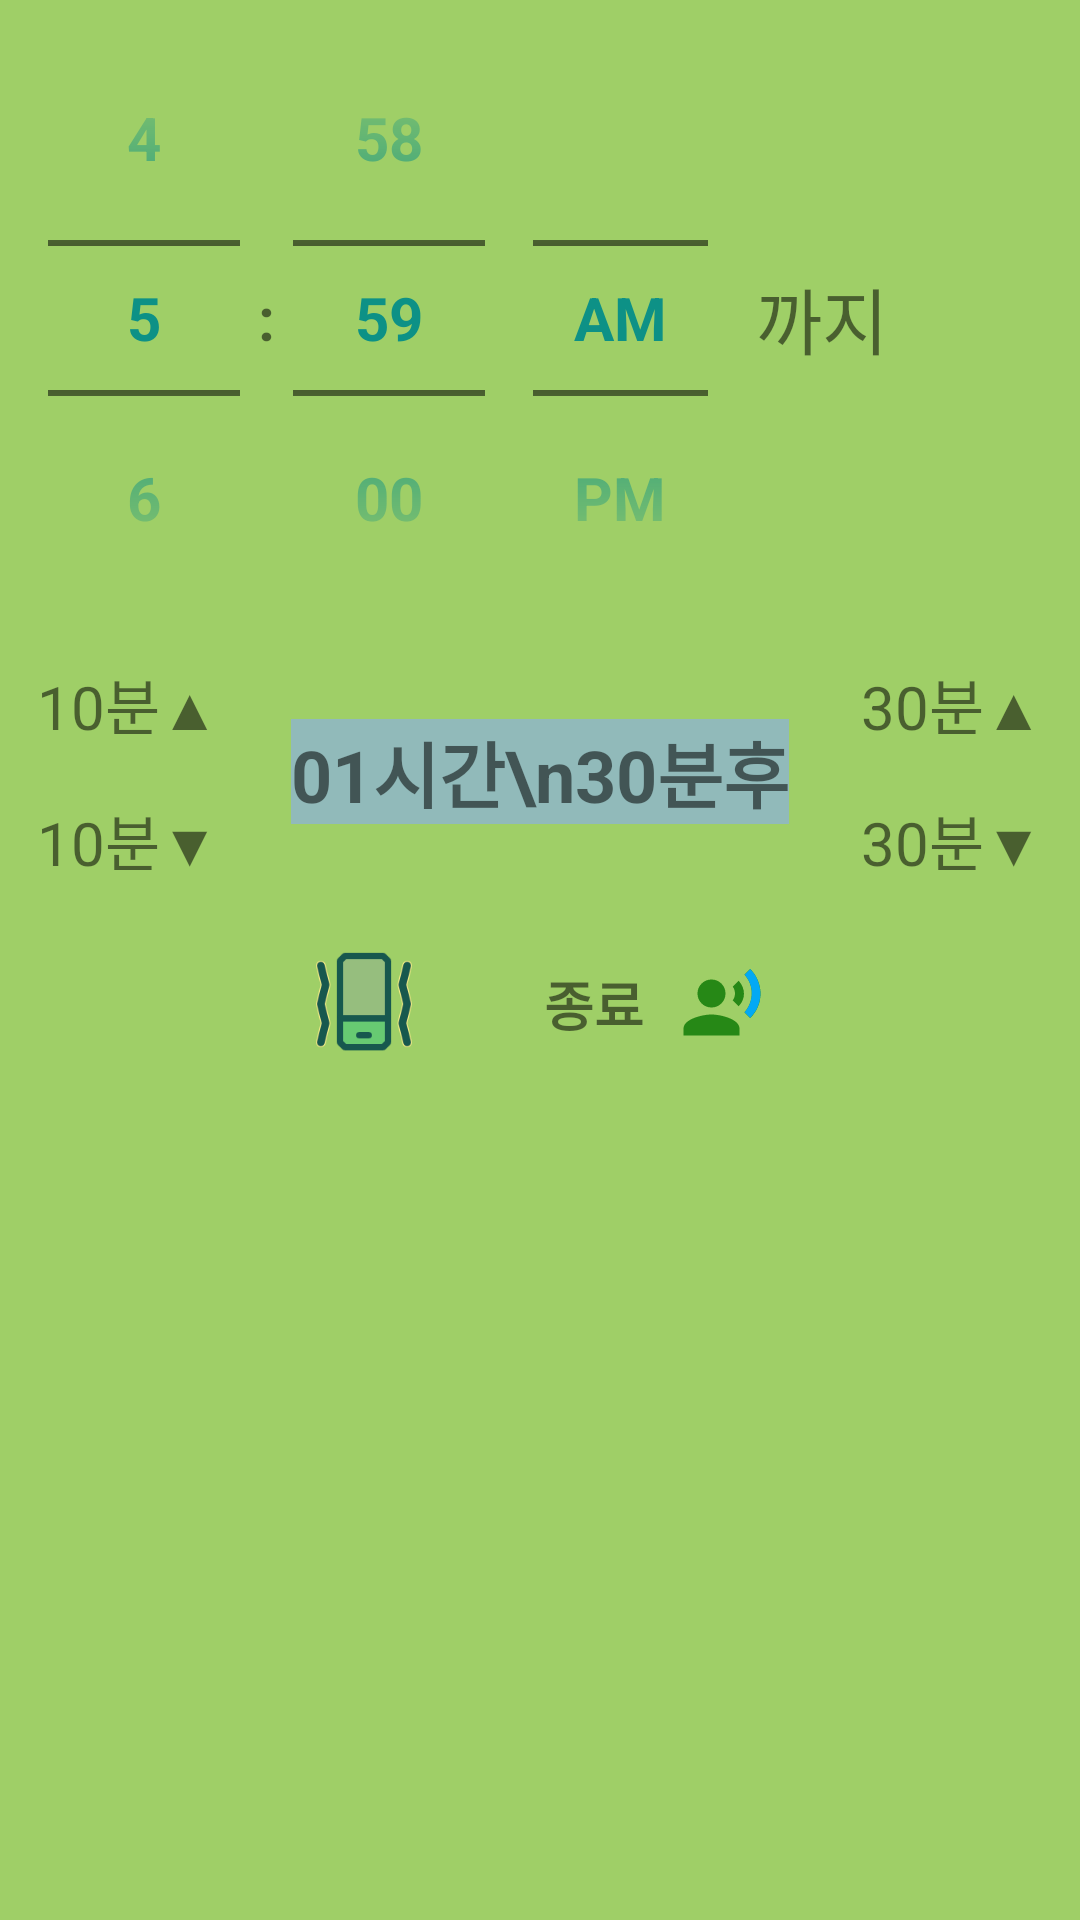

Icons on this 1080w x 1920h Android screen, each with the point to tap as (x,y):
speak on: (722,1002)
